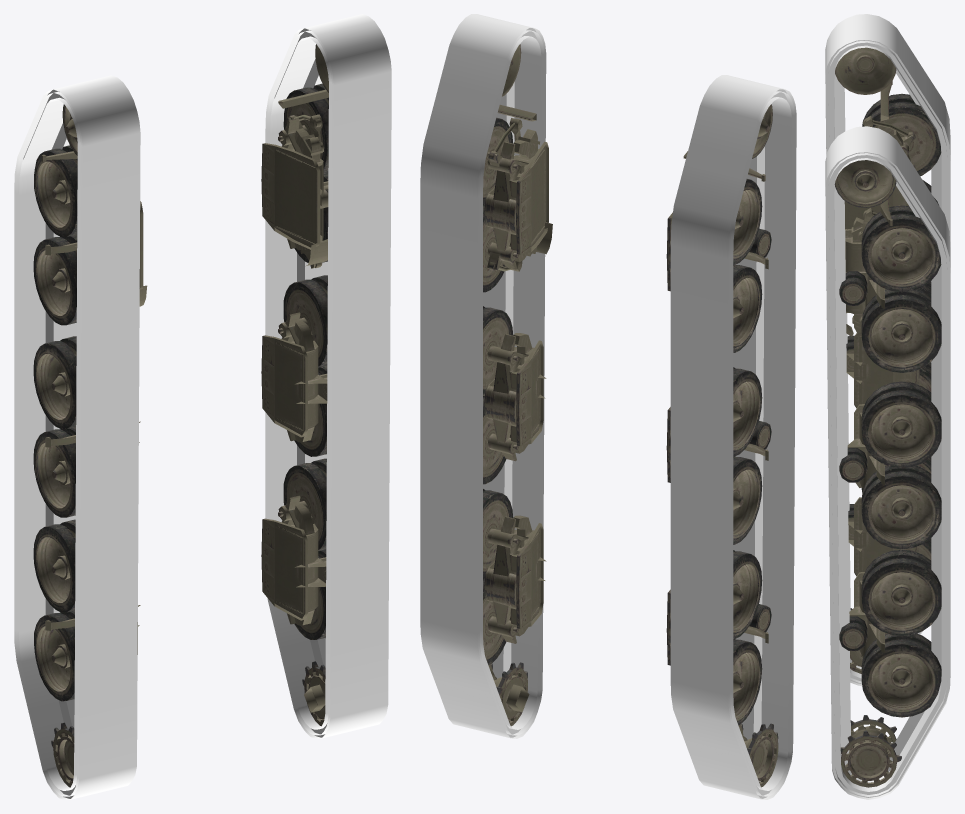
The model's file is Chassis.glb.
The picture shows the model from 3 angles, left to right: view 1: azimuth 30°, elevation 25°; view 2: azimuth 150°, elevation 25°; view 3: azimuth 270°, elevation 25°; orthographic projection. The views are drawn at different scales.
Parts seen in each view (by area): view 1: set_5_group_0, set_4_group_0, set_1_group_0, set_3_group_0; view 2: set_5_group_0, set_4_group_0, set_1_group_0, set_3_group_0, set_0_group_0; view 3: set_1_group_0, set_4_group_0, set_3_group_0, set_5_group_0.
Boxes of the visible parts, x1=… form: set_5_group_0: x1=14, y1=75, x2=140, y2=799; set_4_group_0: x1=265, y1=14, x2=391, y2=738; set_1_group_0: x1=261, y1=44, x2=328, y2=726; set_3_group_0: x1=33, y1=104, x2=147, y2=787; set_5_group_0: x1=670, y1=75, x2=796, y2=799; set_4_group_0: x1=420, y1=14, x2=546, y2=738; set_1_group_0: x1=483, y1=44, x2=552, y2=726; set_3_group_0: x1=666, y1=104, x2=778, y2=787; set_0_group_0: x1=487, y1=601, x2=518, y2=643; set_1_group_0: x1=834, y1=160, x2=941, y2=787; set_4_group_0: x1=825, y1=126, x2=950, y2=799; set_3_group_0: x1=835, y1=47, x2=941, y2=673; set_5_group_0: x1=825, y1=14, x2=950, y2=686.
Bounding box in the file's own units: 3.41 × 7.23 × 1.27.
Materials: 6 (4 with a texture image).
